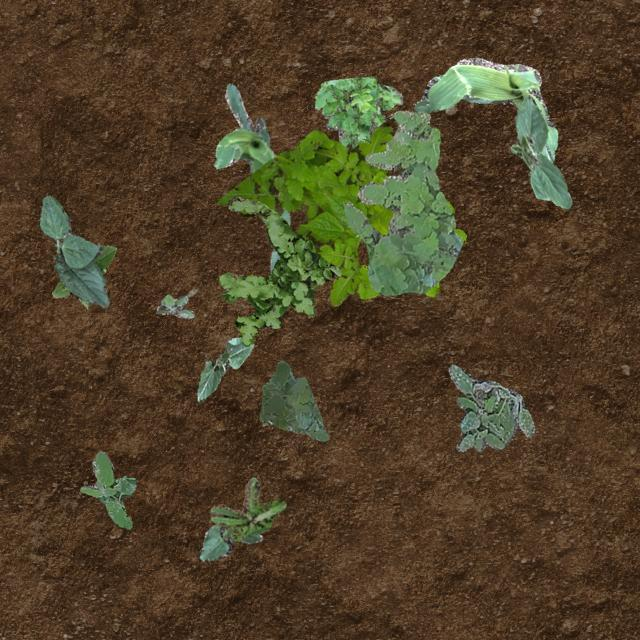crop: (414, 56, 556, 162), (212, 82, 288, 272), (38, 195, 108, 306), (508, 94, 570, 208), (51, 244, 116, 308), (196, 336, 252, 402), (196, 522, 262, 560)
weed: (217, 122, 466, 306), (342, 110, 462, 294), (218, 196, 340, 346), (448, 364, 534, 452), (314, 76, 402, 148), (258, 360, 328, 440), (210, 476, 284, 542), (80, 449, 134, 528), (154, 294, 192, 318)
